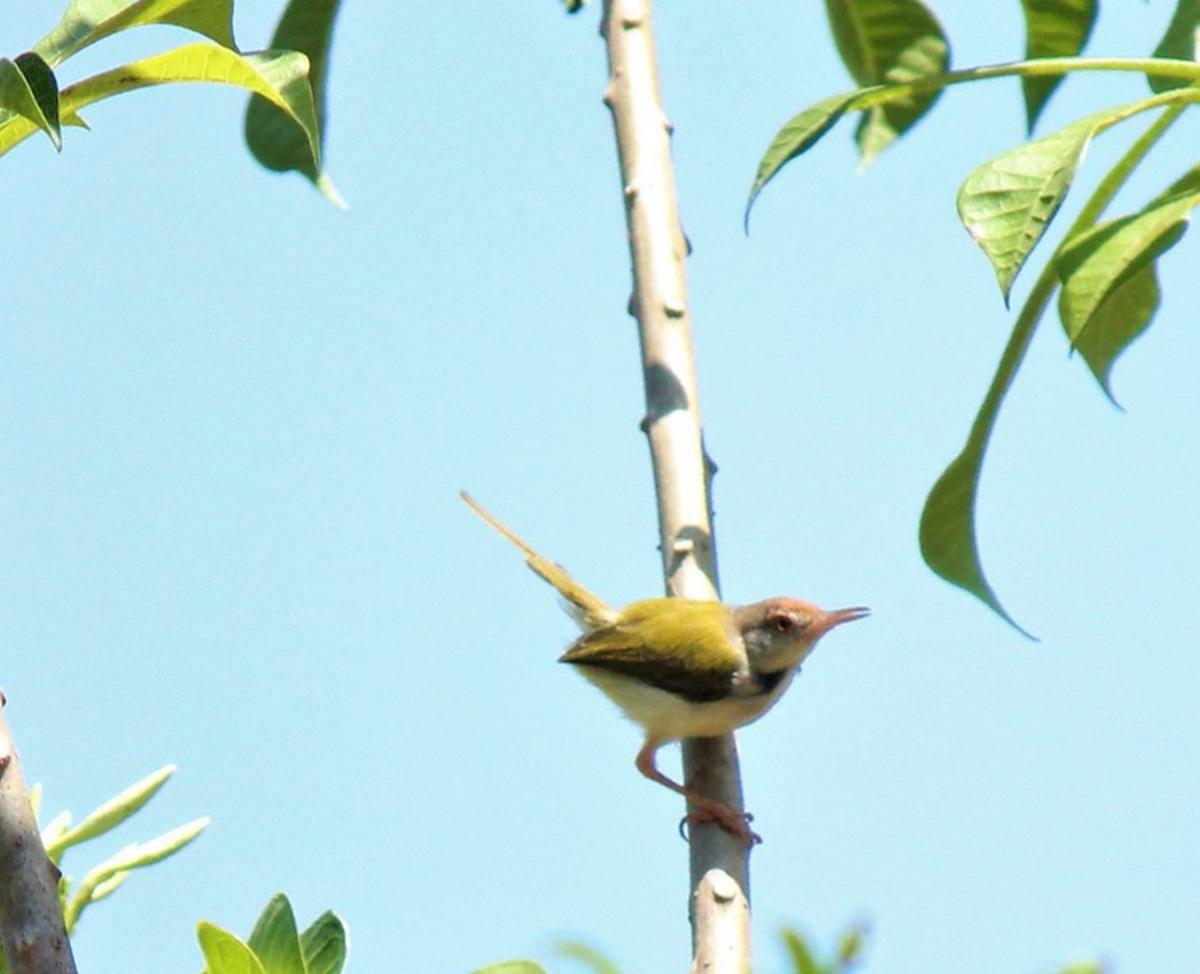tailorbird: (520, 541, 889, 823)
